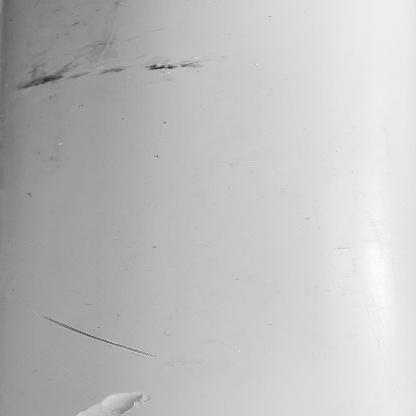sunshang: (42, 315, 157, 357), (75, 390, 146, 416)
